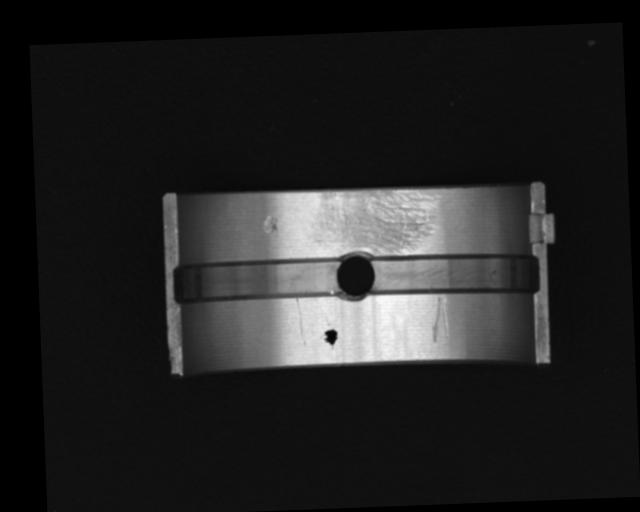blot: (322, 328, 339, 350)
bruise: (263, 213, 277, 232)
gap: (173, 257, 342, 305), (371, 251, 541, 298)
hole: (334, 251, 377, 304)
nick: (428, 296, 451, 344), (296, 298, 306, 344)
scratch: (307, 187, 442, 256)
